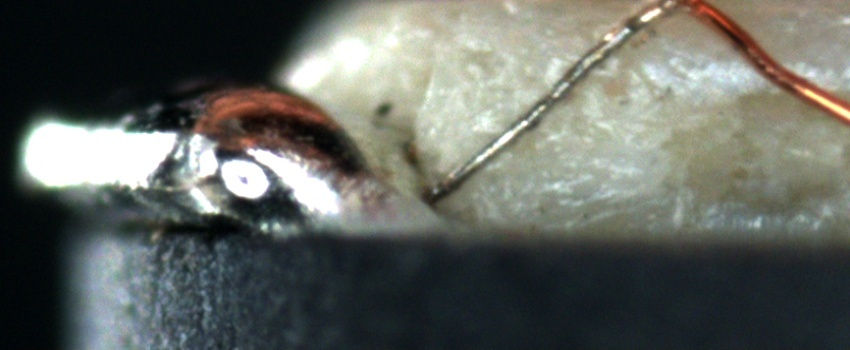DL: (557, 53, 850, 86)
TS: (424, 21, 636, 205)
